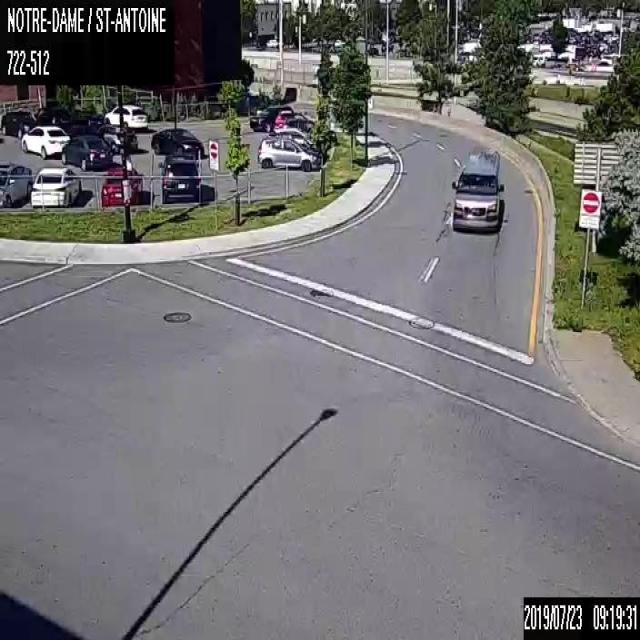vehicle: (451, 144, 504, 232), (257, 135, 320, 171), (158, 154, 203, 203), (30, 165, 82, 207), (61, 134, 112, 170), (20, 125, 70, 159), (150, 127, 203, 159), (100, 167, 142, 206), (0, 160, 32, 207), (272, 125, 320, 151), (249, 104, 293, 132), (96, 123, 137, 152), (104, 102, 146, 130), (35, 104, 73, 131), (1, 109, 36, 137), (276, 109, 314, 131)
